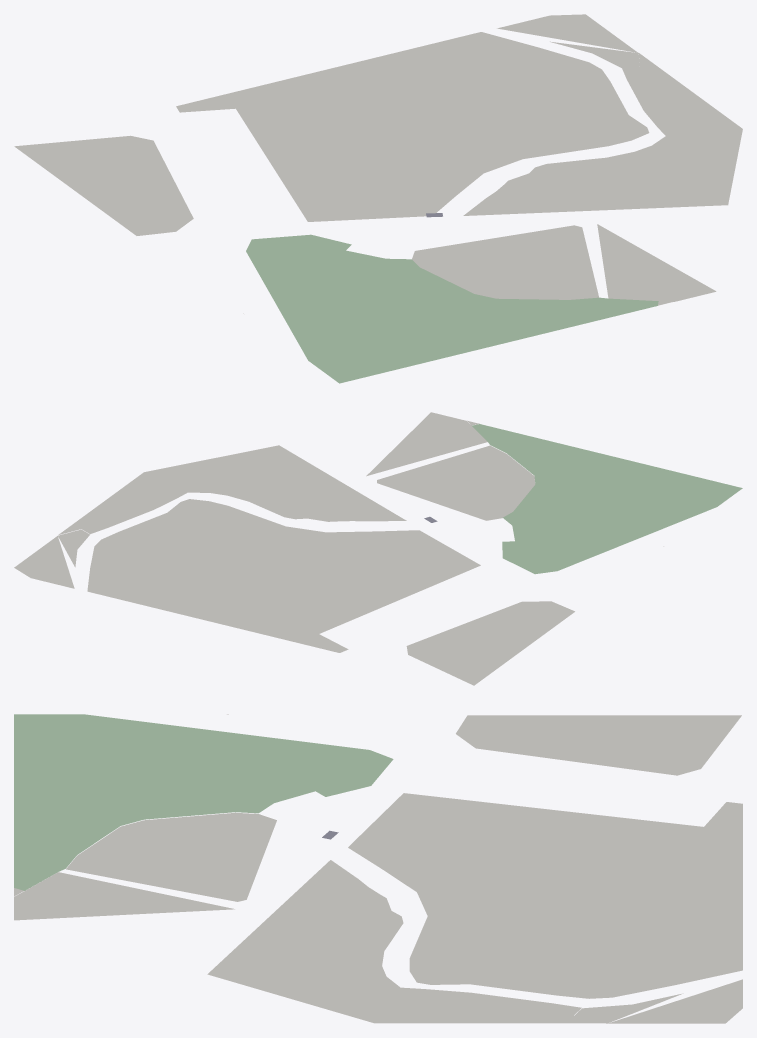
File: 104_97_mid.glb
3 renders of one model, top to bottom at view 1: azimuth 30°, elevation 25°; view 2: azimuth 150°, elevation 25°; view 3: azimuth 270°, elevation 25°, orthographic. The views are drawn at different scales.
Bounding box in the file's own units: 500 × 7.26 × 500.
